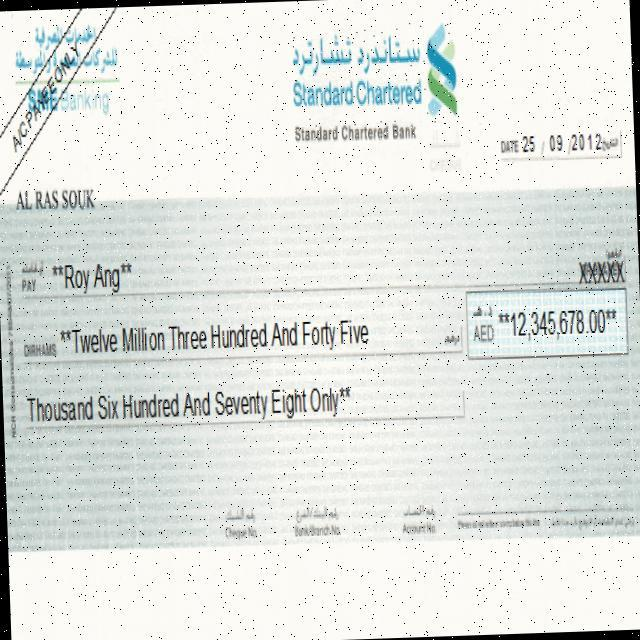Standard Chartered: (289, 20, 460, 129)
